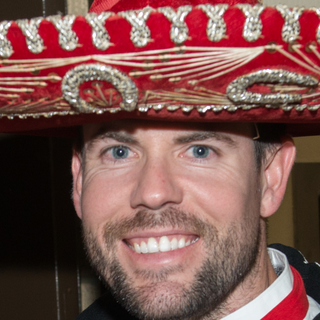eye: (90, 138, 151, 165), (171, 143, 228, 166)
